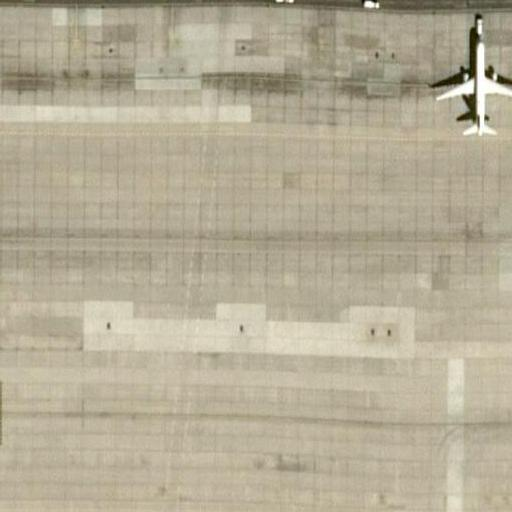Aircraft: (420, 14, 512, 139)
